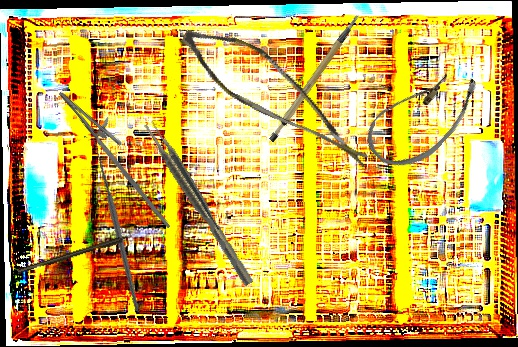Cannula: (357, 48, 489, 184)
Hook Surgical: (41, 135, 183, 313), (16, 231, 140, 275)
Micro Scissor: (165, 18, 392, 168)
Needle Holder: (43, 80, 195, 230)
Scalpel Handle: (253, 13, 379, 144)
Tissue Forceps: (142, 118, 254, 290)
